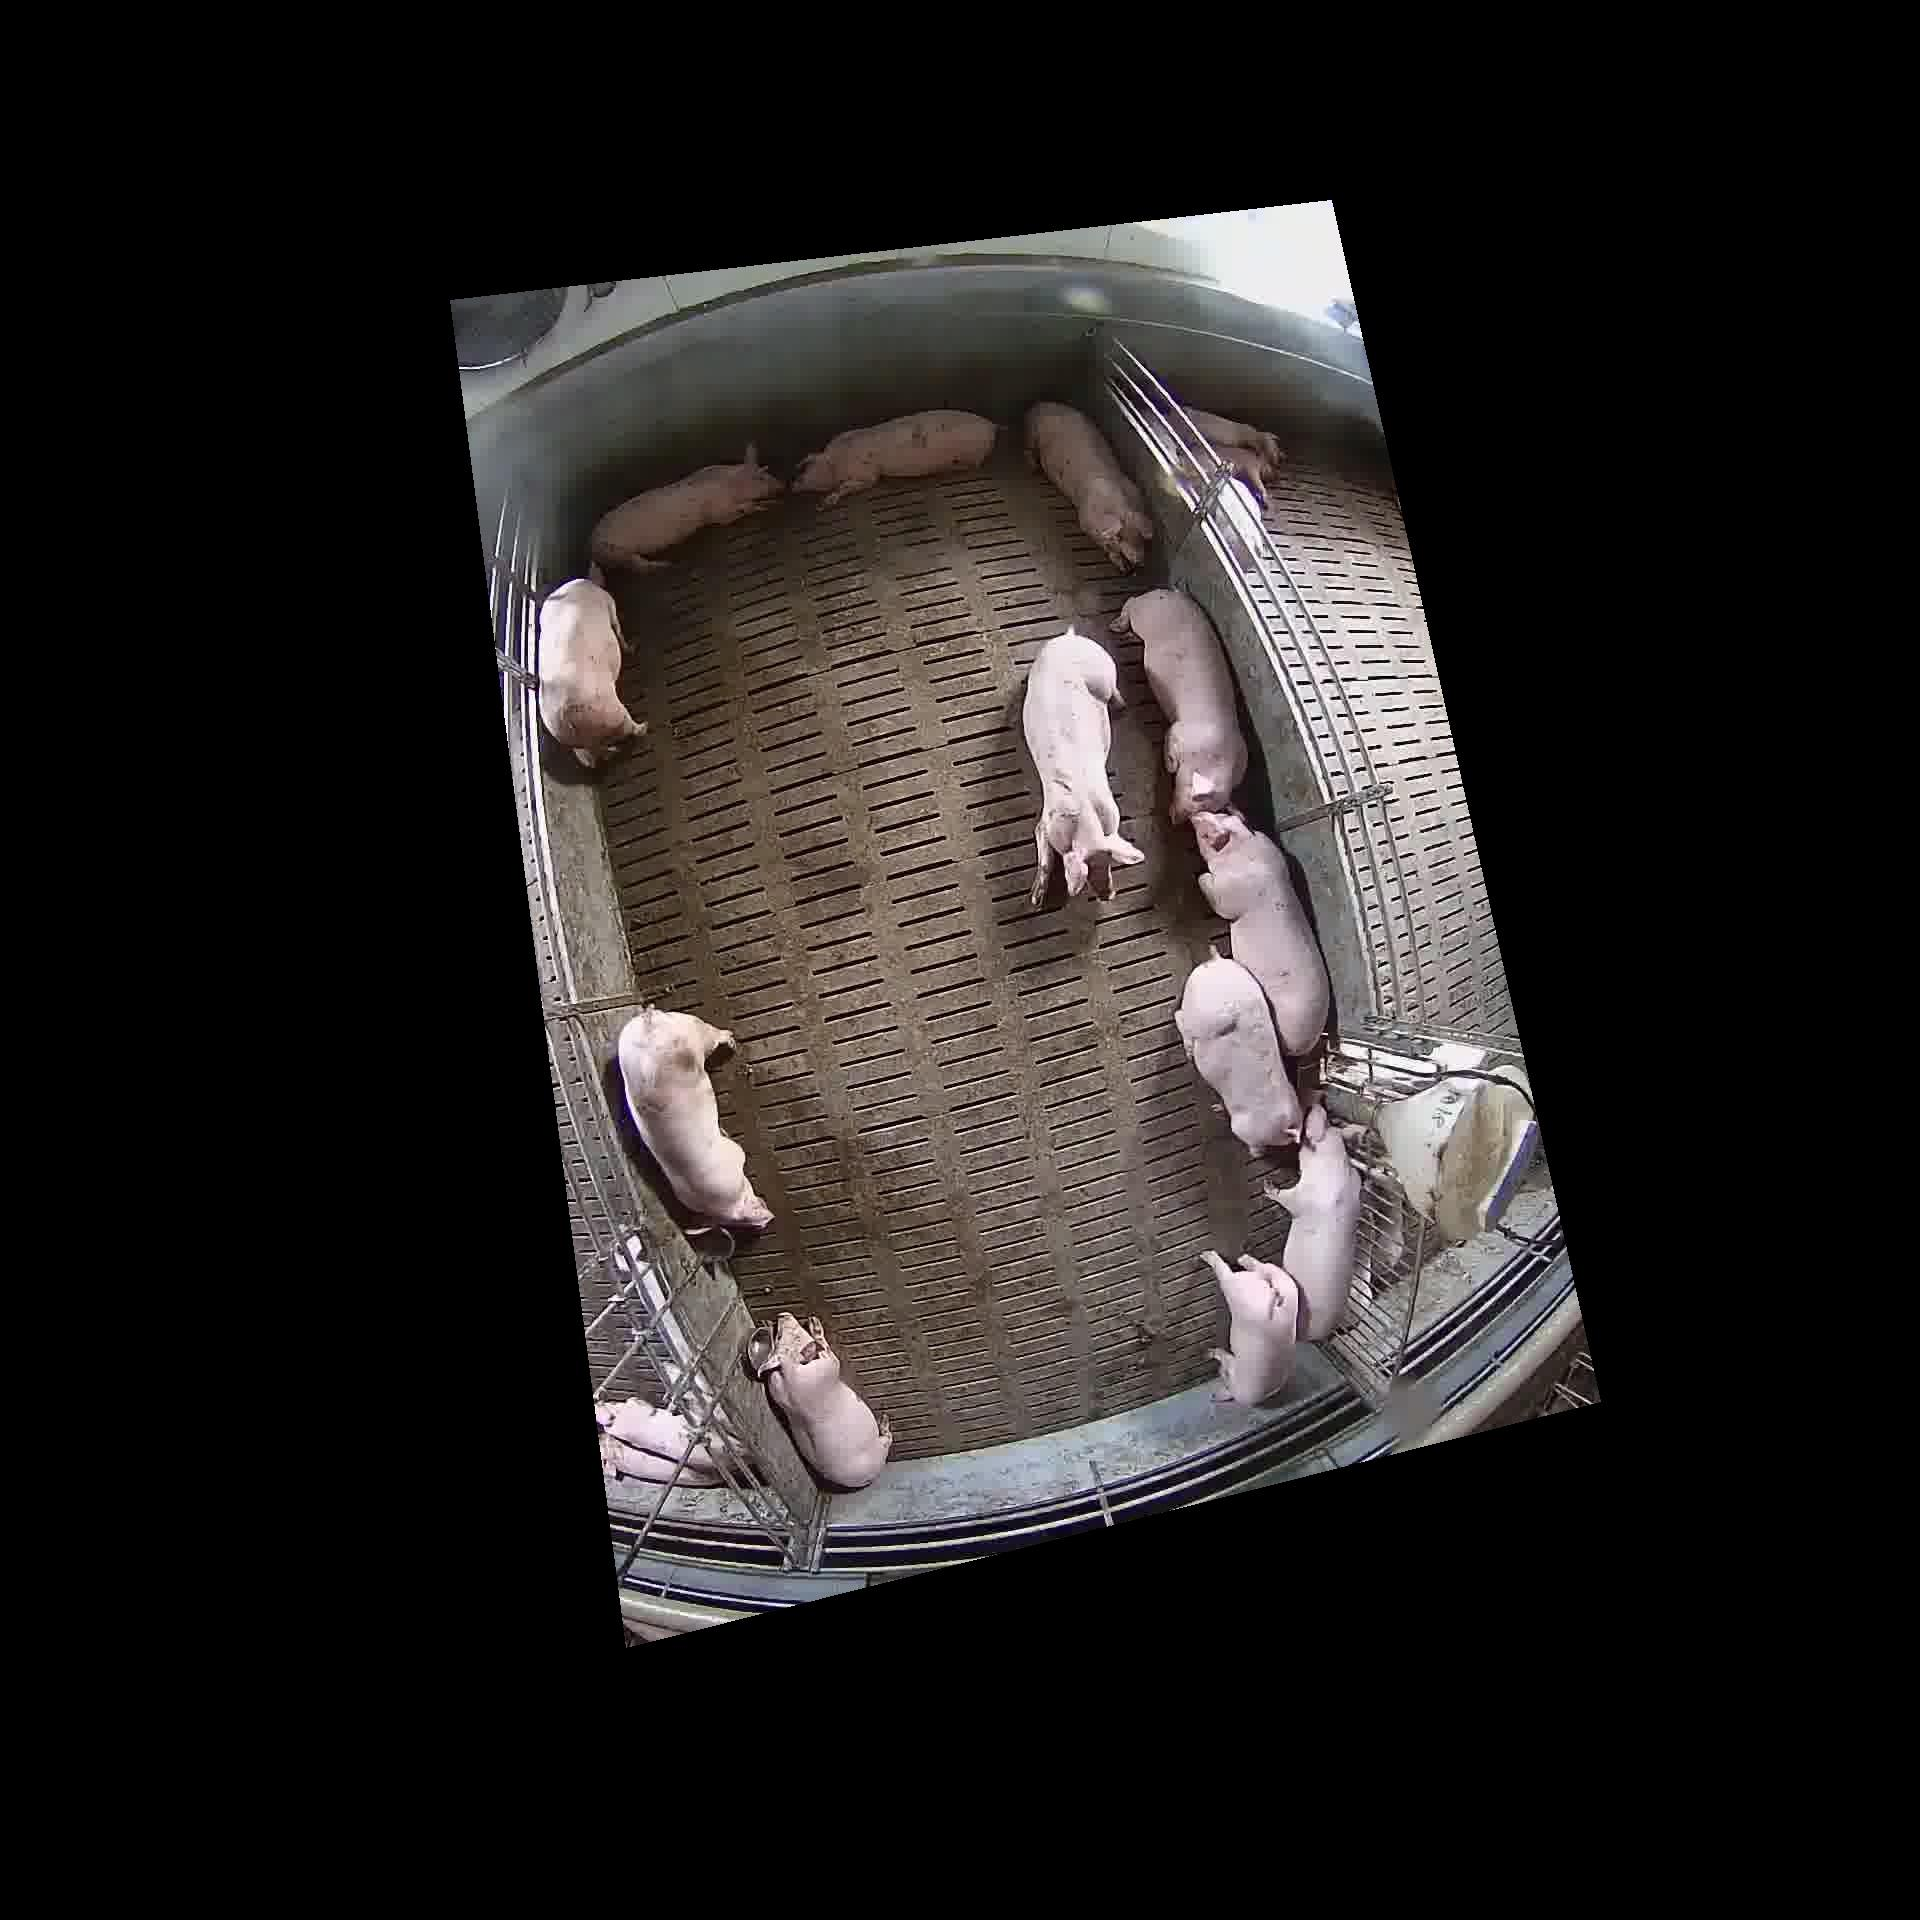pig: (1021, 627, 1140, 900), (624, 1008, 771, 1227), (1200, 816, 1329, 1053), (1116, 588, 1245, 816), (591, 444, 782, 568), (1176, 948, 1293, 1149), (1273, 1105, 1363, 1342), (540, 567, 645, 765), (768, 1320, 885, 1485), (793, 408, 993, 503), (1032, 408, 1149, 570), (1202, 1249, 1298, 1404)
